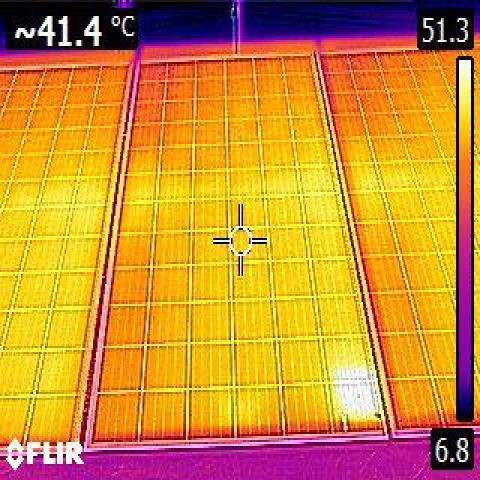fault: (336, 384, 373, 427)
